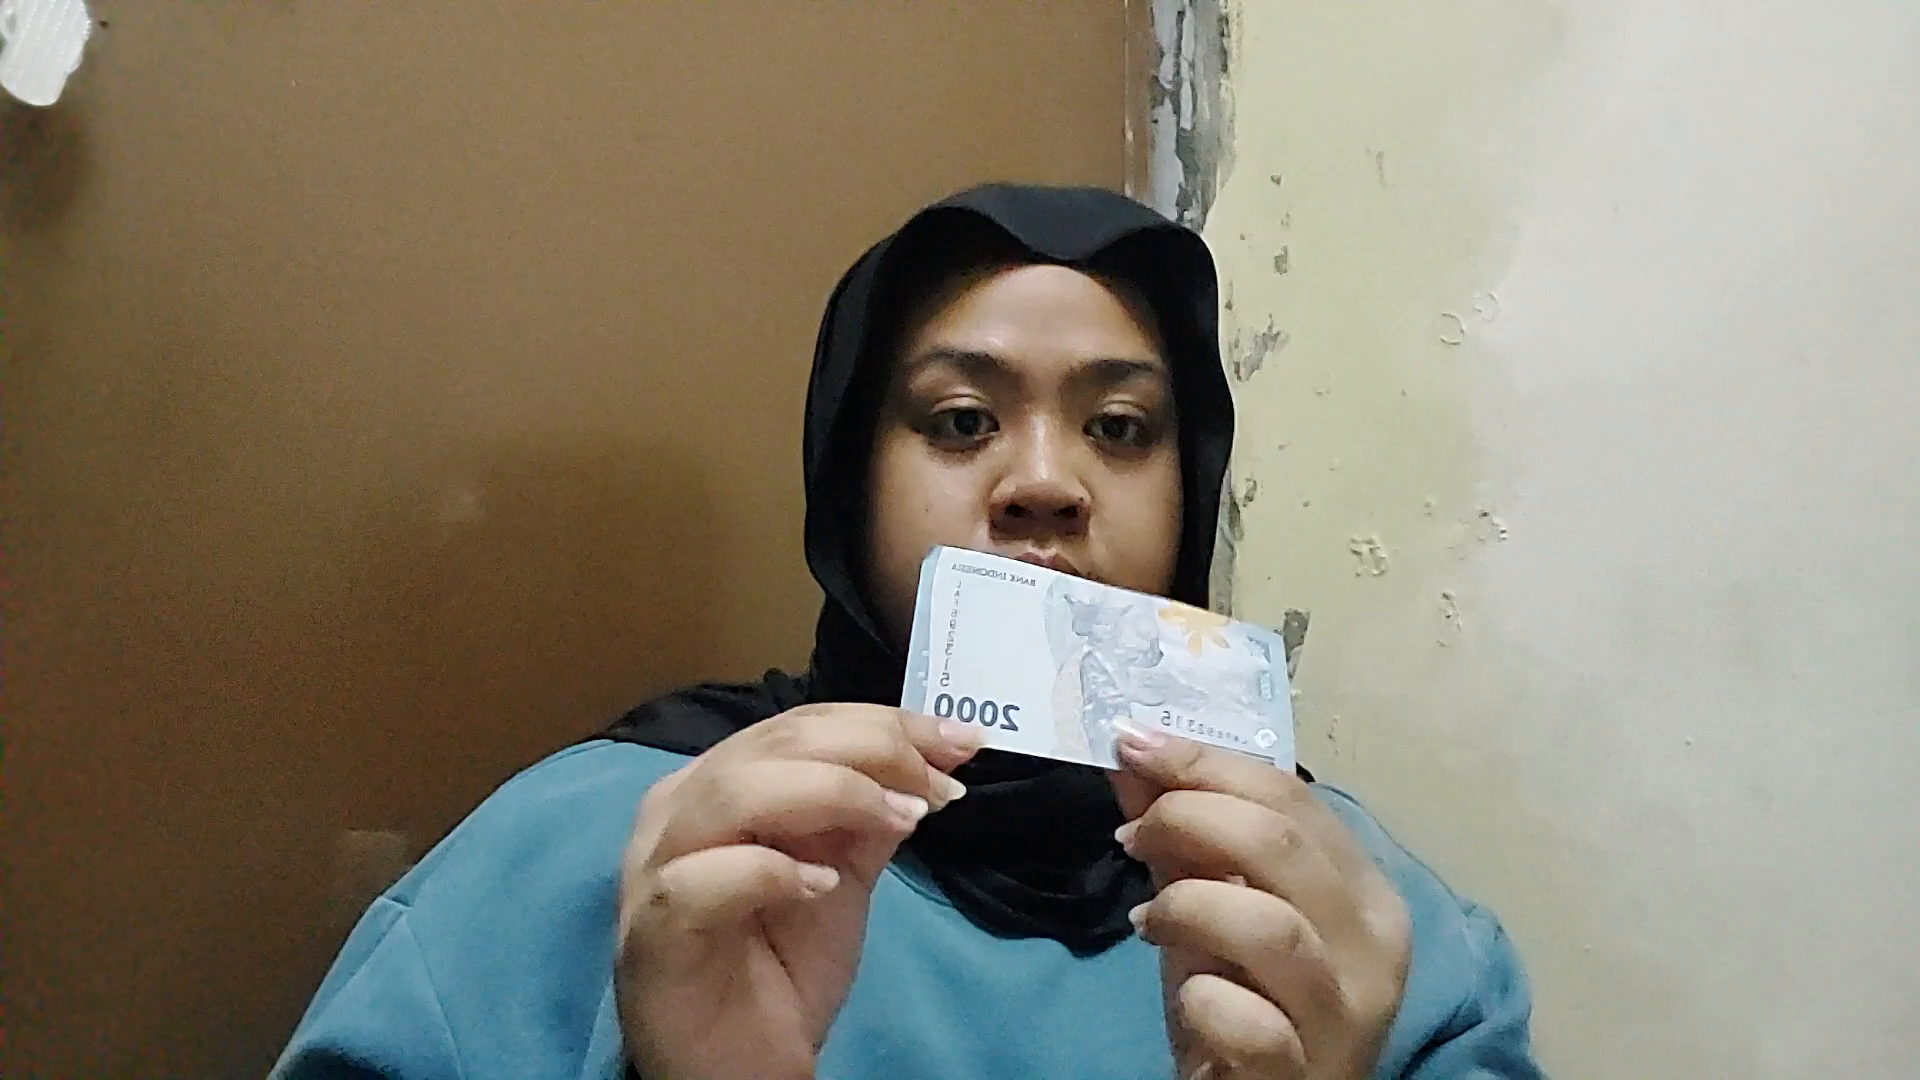2k: (934, 543, 1325, 737)
